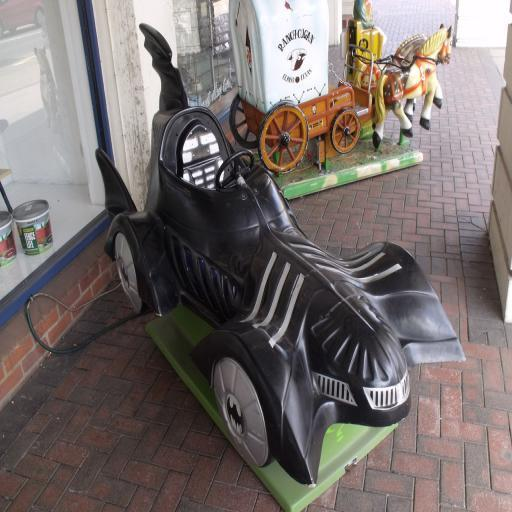horse: (372, 20, 454, 152), (370, 32, 428, 133)
